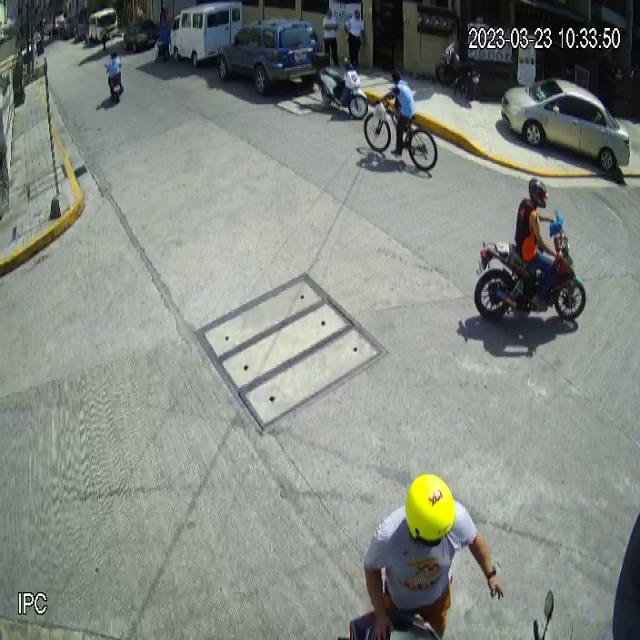Car: (501, 79, 631, 172), (216, 16, 322, 96)
Motorcycle: (474, 209, 587, 323), (311, 51, 368, 121)
Van: (169, 0, 243, 67)
